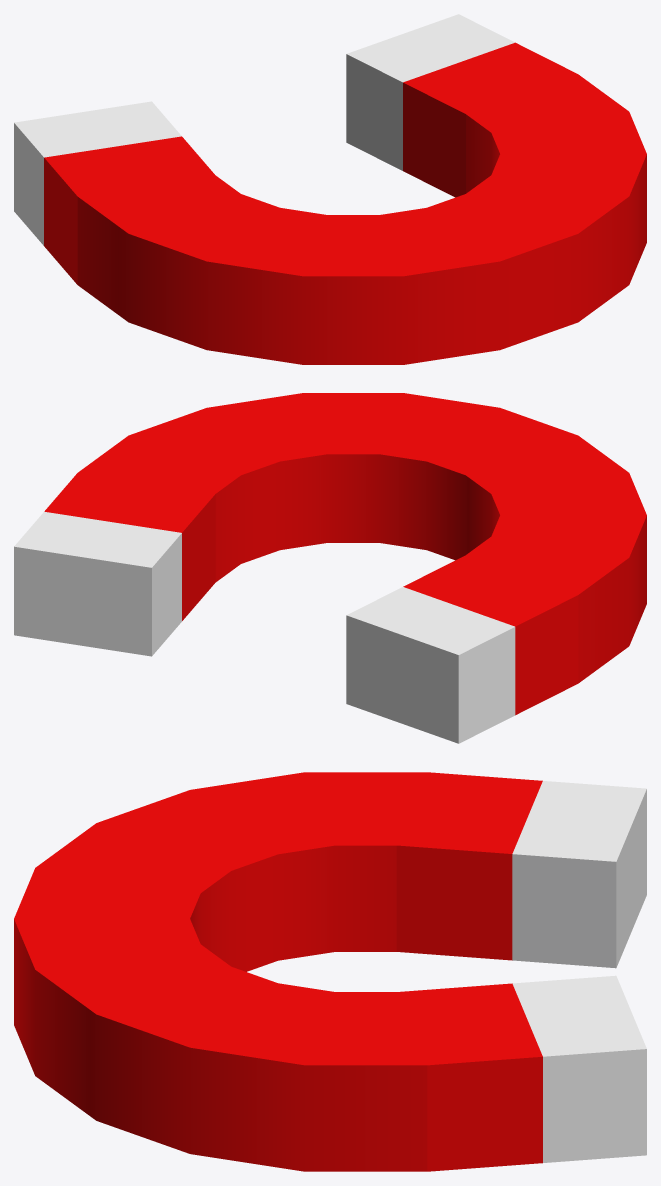
File: exportIman.fbx
3 views of the same model, one above another, from view 1: azimuth 30°, elevation 25°; view 2: azimuth 150°, elevation 25°; view 3: azimuth 270°, elevation 25° (orthographic). The views are drawn at different scales.
Visible parts, largest first — view 1: Tube001; view 2: Tube001; view 3: Tube001.
Part boxes in pixels (box(x1,y1,x2,y2)): Tube001: box(14, 14, 646, 364); Tube001: box(14, 393, 646, 743); Tube001: box(14, 772, 646, 1171).
Bounding box in the file's own units: 0.5909 × 0.1 × 0.5392.
